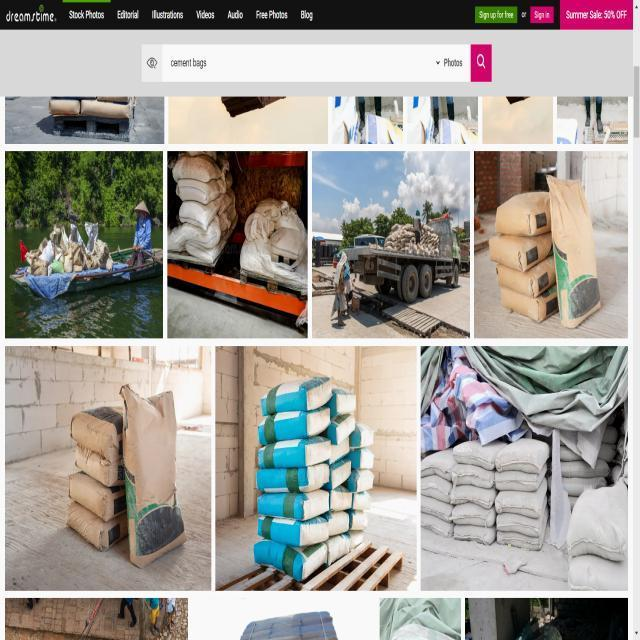gunny_bag: (120, 385, 186, 567), (548, 174, 602, 327), (568, 479, 629, 561), (70, 407, 124, 486), (254, 540, 328, 581), (66, 502, 127, 551), (70, 406, 123, 462), (68, 471, 126, 521), (261, 376, 332, 415), (258, 407, 330, 445), (496, 190, 552, 235), (490, 231, 553, 271), (497, 255, 557, 297), (258, 436, 331, 468), (257, 515, 330, 547), (257, 489, 329, 521), (256, 462, 330, 493), (497, 507, 550, 550), (569, 555, 629, 591), (501, 285, 560, 321), (496, 478, 548, 518), (496, 438, 551, 473), (453, 440, 509, 470), (178, 194, 224, 229), (495, 462, 548, 492), (172, 153, 221, 181), (176, 178, 226, 204), (497, 511, 545, 537), (451, 484, 498, 509), (451, 502, 498, 527), (422, 448, 457, 481), (453, 463, 496, 489), (421, 474, 454, 503), (454, 524, 497, 545), (421, 496, 454, 522), (327, 414, 355, 444), (327, 388, 356, 416), (422, 513, 454, 537)
